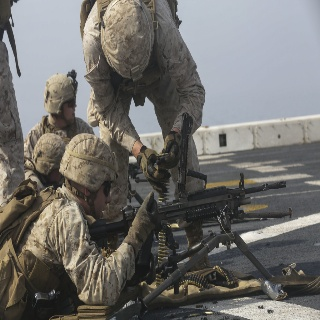rifle: (85, 173, 290, 316)
